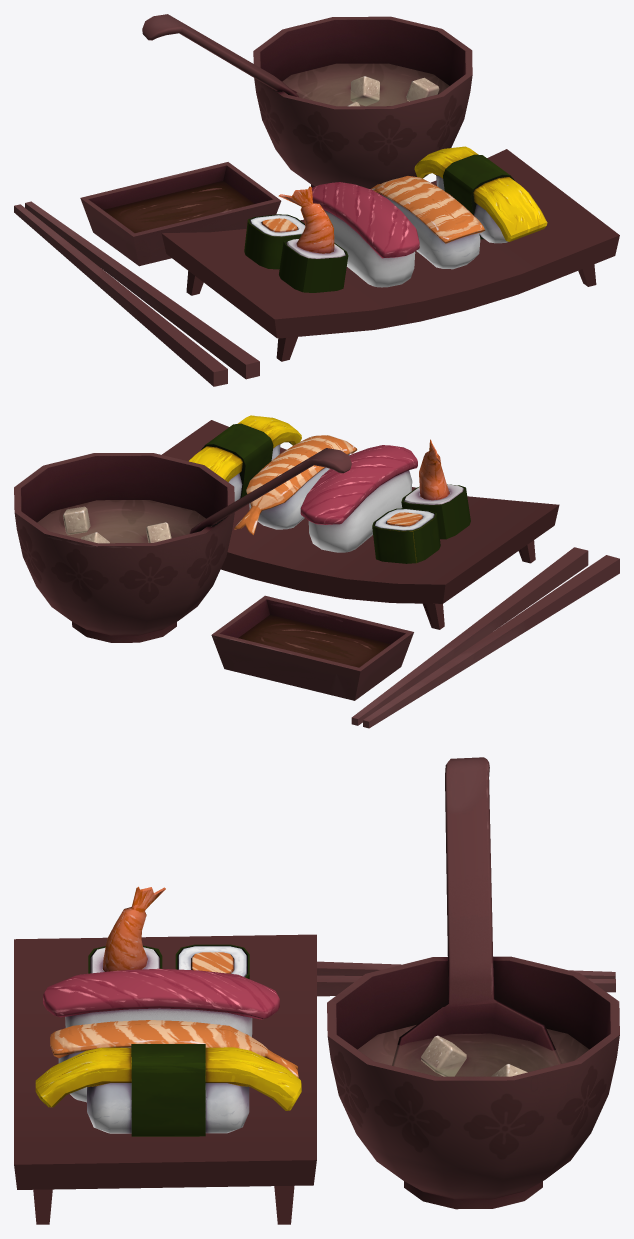
3 renders of one model, top to bottom at view 1: azimuth 30°, elevation 25°; view 2: azimuth 150°, elevation 25°; view 3: azimuth 270°, elevation 25°, orthographic. The views are drawn at different scales.
Visible parts, largest first — view 1: Sushi; view 2: Sushi; view 3: Sushi.
Part boxes in pixels (x1,y1,x2,y2): Sushi: (14,14,619,386); Sushi: (14,415,619,728); Sushi: (14,757,619,1224).
Size of the model in its own units: 8.65 by 4.32 by 8.17.
Materials: 4 (4 with a texture image).
